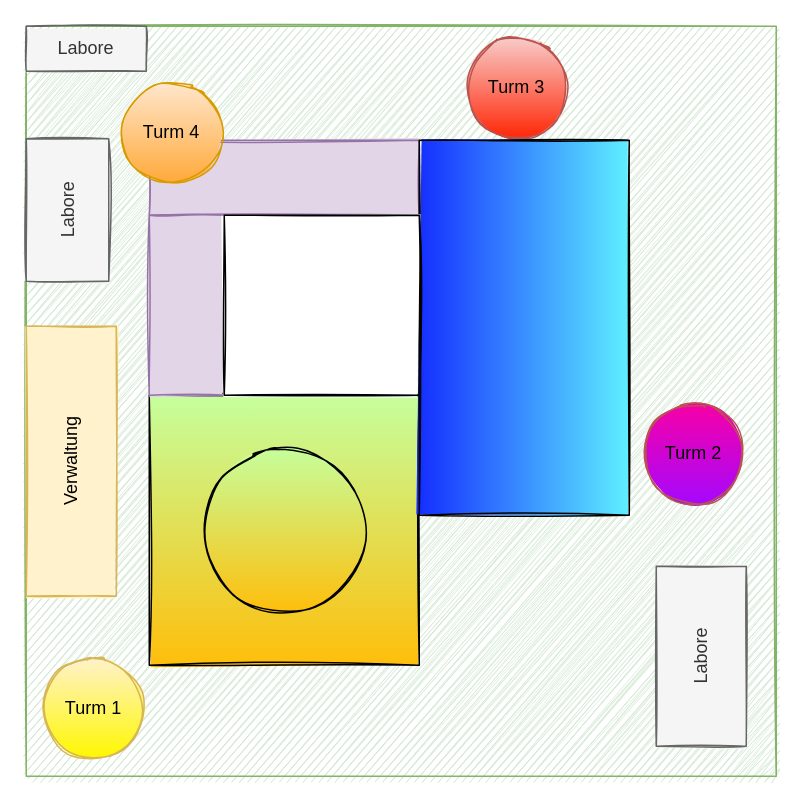
This 803x803 diagram has some shape labels left out. The shapes that lost their labels are listed below. From the top down, each one's centre as x and y in pixels, then its label:
At (283,177): "Wohntrakt".
At (321,304): "Garten".
At (523,327): "großes Nebengebäude".
At (283,529): "Hauptgebäude".
